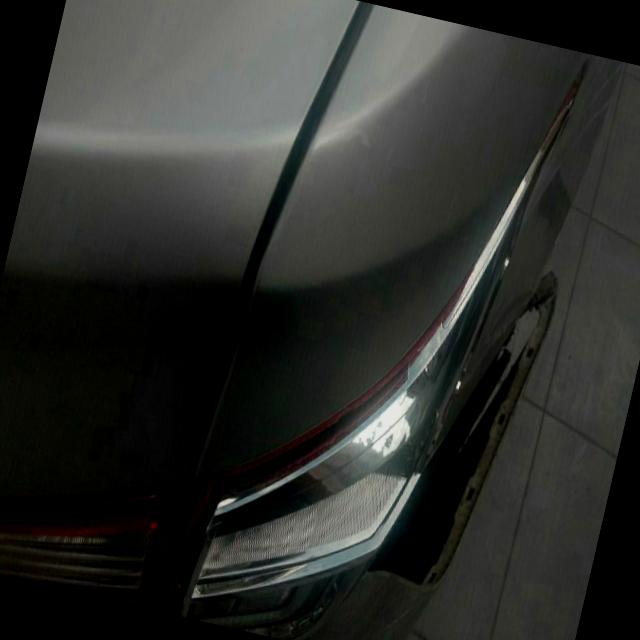Dechirure: (368, 268, 552, 612)
Phare abime: (173, 460, 431, 640)
